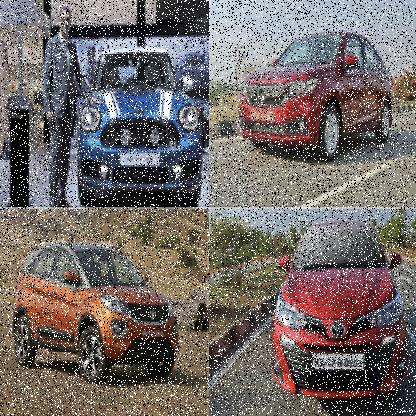licence: (311, 349, 367, 379), (247, 100, 278, 132), (122, 152, 154, 165), (138, 327, 166, 340)
